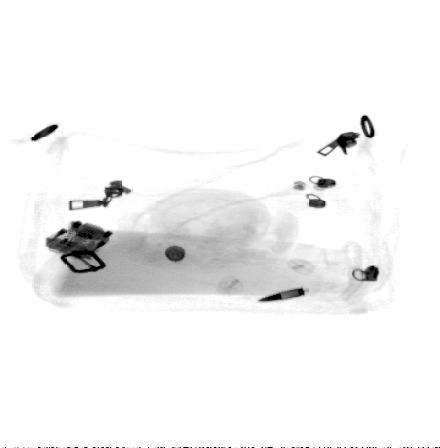Bullet: (259, 287, 306, 301)
